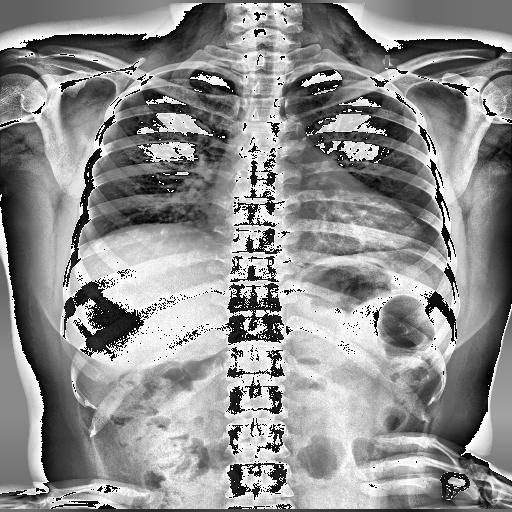13- Pulmonary fibrosis: (193, 119, 212, 135)
3- Cardiomegaly: (203, 184, 423, 248), (207, 187, 418, 247), (204, 194, 424, 250)
